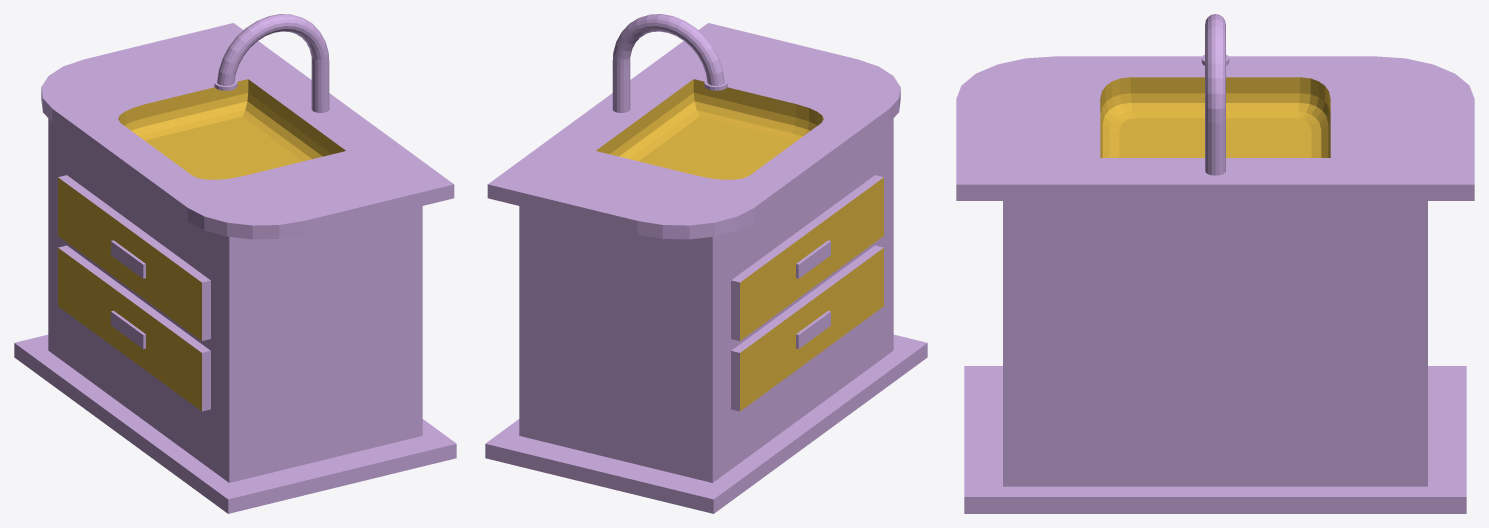
Rendered from Bathroom sink .fbx.
3 renders of one model, left to right at view 1: azimuth 30°, elevation 25°; view 2: azimuth 150°, elevation 25°; view 3: azimuth 270°, elevation 25°, orthographic. The views are drawn at different scales.
Visible parts, largest first — view 1: Bathroom sink; view 2: Bathroom sink; view 3: Bathroom sink.
Part boxes in pixels (<box>): Bathroom sink: <box>14,14,456,513</box>; Bathroom sink: <box>485,14,927,513</box>; Bathroom sink: <box>956,14,1474,513</box>.
Bounding box in the file's own units: 112 × 178 × 186.
